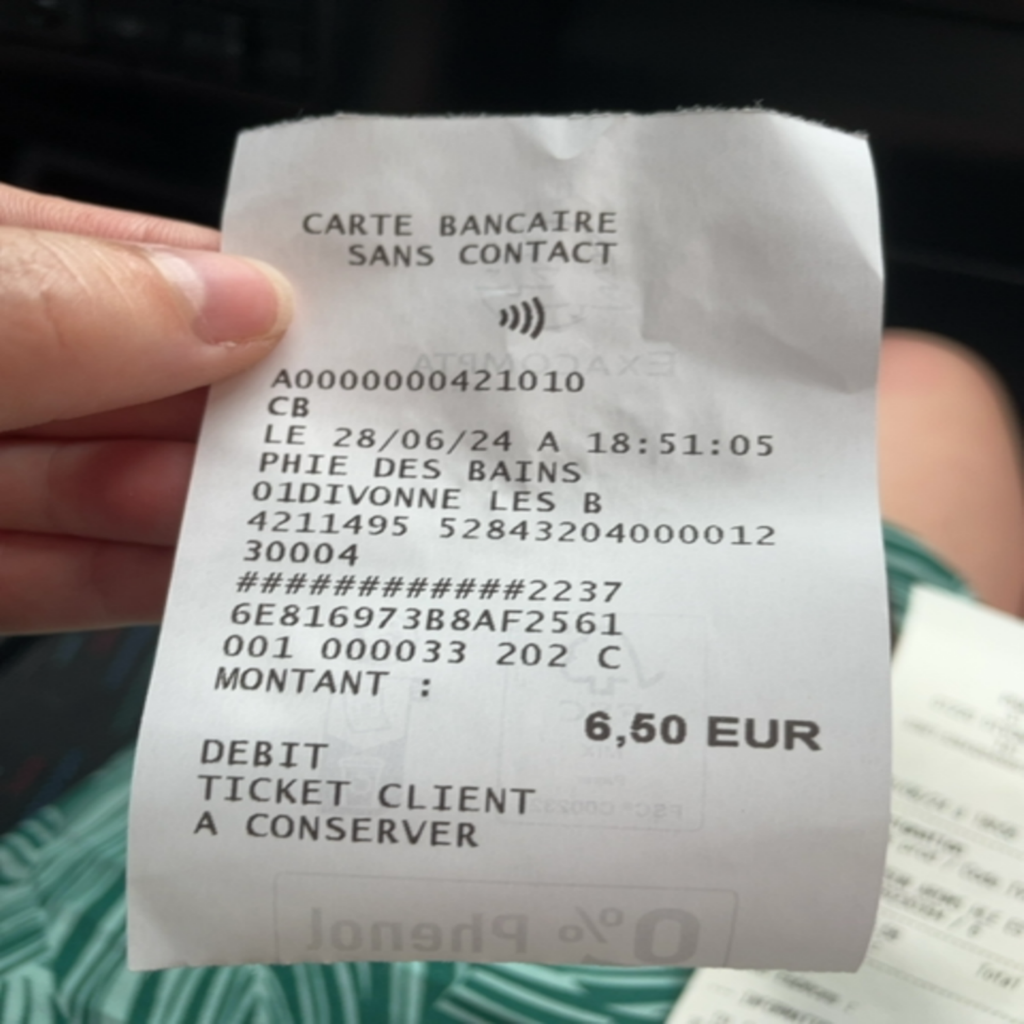recipt: (130, 105, 896, 969)
